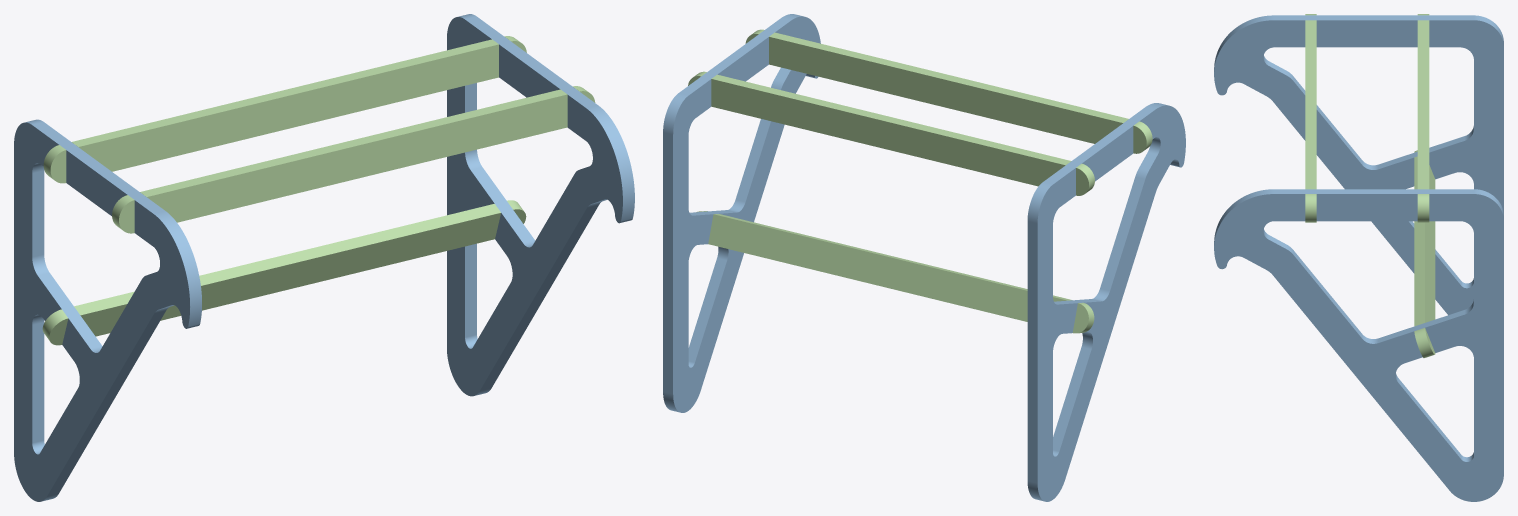
File: laptopstand.gltf
3 renders of one model, left to right at view 1: azimuth 30°, elevation 25°; view 2: azimuth 150°, elevation 25°; view 3: azimuth 270°, elevation 25°, orthographic. The views are drawn at different scales.
Parts seen in each view (by area): view 1: Part 5, Part 1, Part 3, Part 2, Part 4; view 2: Part 5, Part 1, Part 3, Part 2, Part 4; view 3: Part 1, Part 5, Part 4, Part 2, Part 3.
Boxes of the visible parts, x1,y1,x2,y2 form: Part 5: (14, 119, 201, 501); Part 1: (447, 14, 634, 396); Part 3: (112, 86, 595, 233); Part 2: (43, 36, 526, 183); Part 4: (42, 200, 526, 345); Part 5: (1027, 103, 1185, 501); Part 1: (663, 14, 820, 412); Part 3: (745, 29, 1152, 153); Part 2: (688, 71, 1094, 195); Part 4: (696, 211, 1094, 333); Part 1: (1214, 189, 1503, 501); Part 5: (1214, 15, 1503, 315); Part 4: (1414, 150, 1435, 357); Part 2: (1417, 14, 1429, 222); Part 3: (1305, 14, 1316, 222).
Bounding box in the file's own units: 0.2264 × 0.17 × 0.145.
